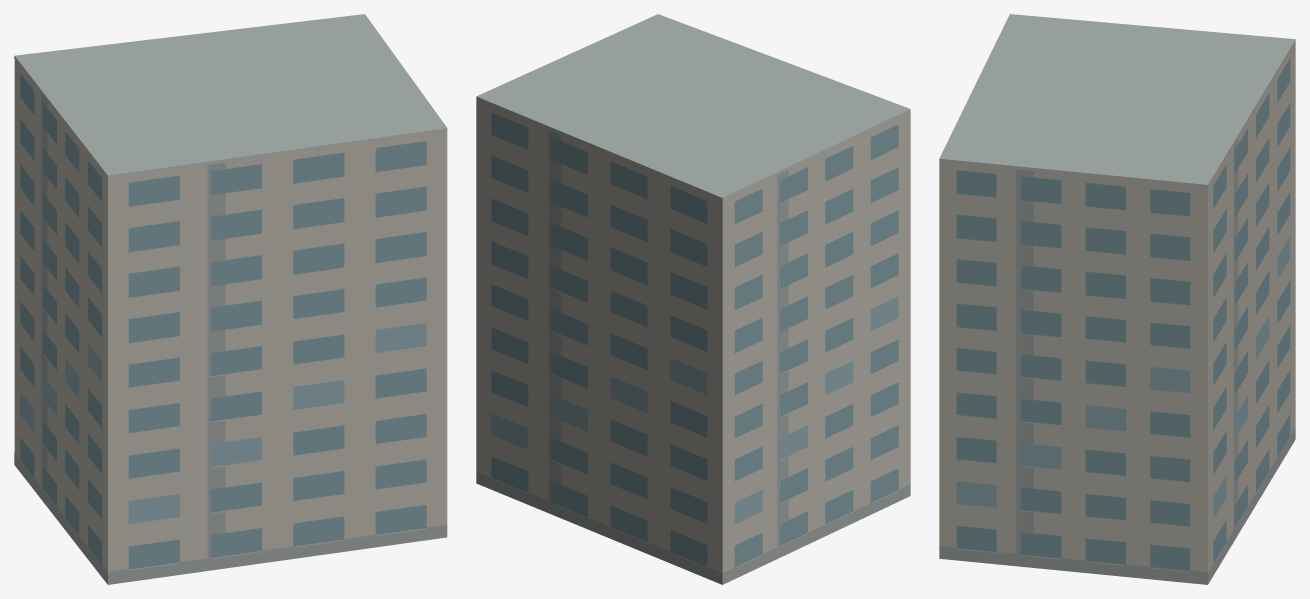
The model's file is survey-upis-32800832.glb.
3 views of the same model, side by side, from view 1: azimuth 30°, elevation 25°; view 2: azimuth 150°, elevation 25°; view 3: azimuth 270°, elevation 25° (orthographic). The views are drawn at different scales.
Parts seen in each view (by area): view 1: survey-upis-32800832.tmp; view 2: survey-upis-32800832.tmp; view 3: survey-upis-32800832.tmp.
Boxes of the visible parts, box(x1,y1,x2,y2) form: survey-upis-32800832.tmp: box(14, 14, 447, 584); survey-upis-32800832.tmp: box(476, 14, 910, 584); survey-upis-32800832.tmp: box(939, 14, 1295, 584).
Bounding box in the file's own units: 26.49 × 28.9 × 23.35.
